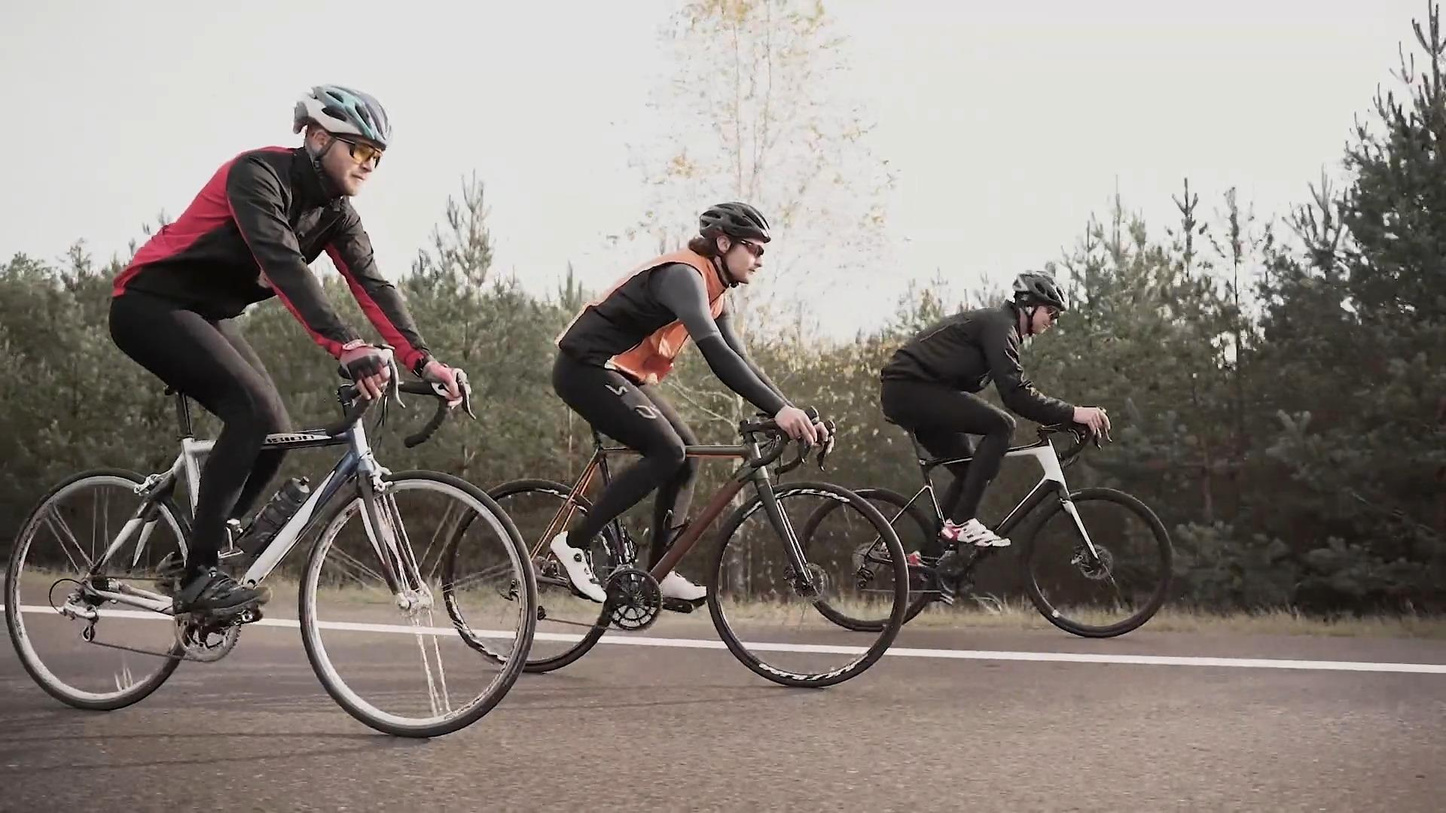bicyclist: (0, 81, 535, 740), (441, 199, 910, 687), (798, 269, 1177, 639)
helmet: (293, 83, 392, 197), (699, 201, 772, 288), (1012, 269, 1070, 337)
